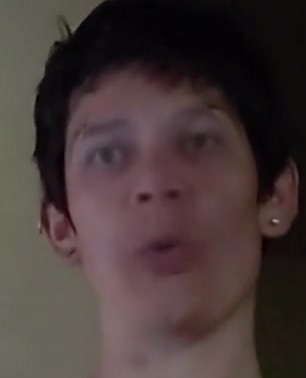eb_f: (69, 97, 243, 174)
